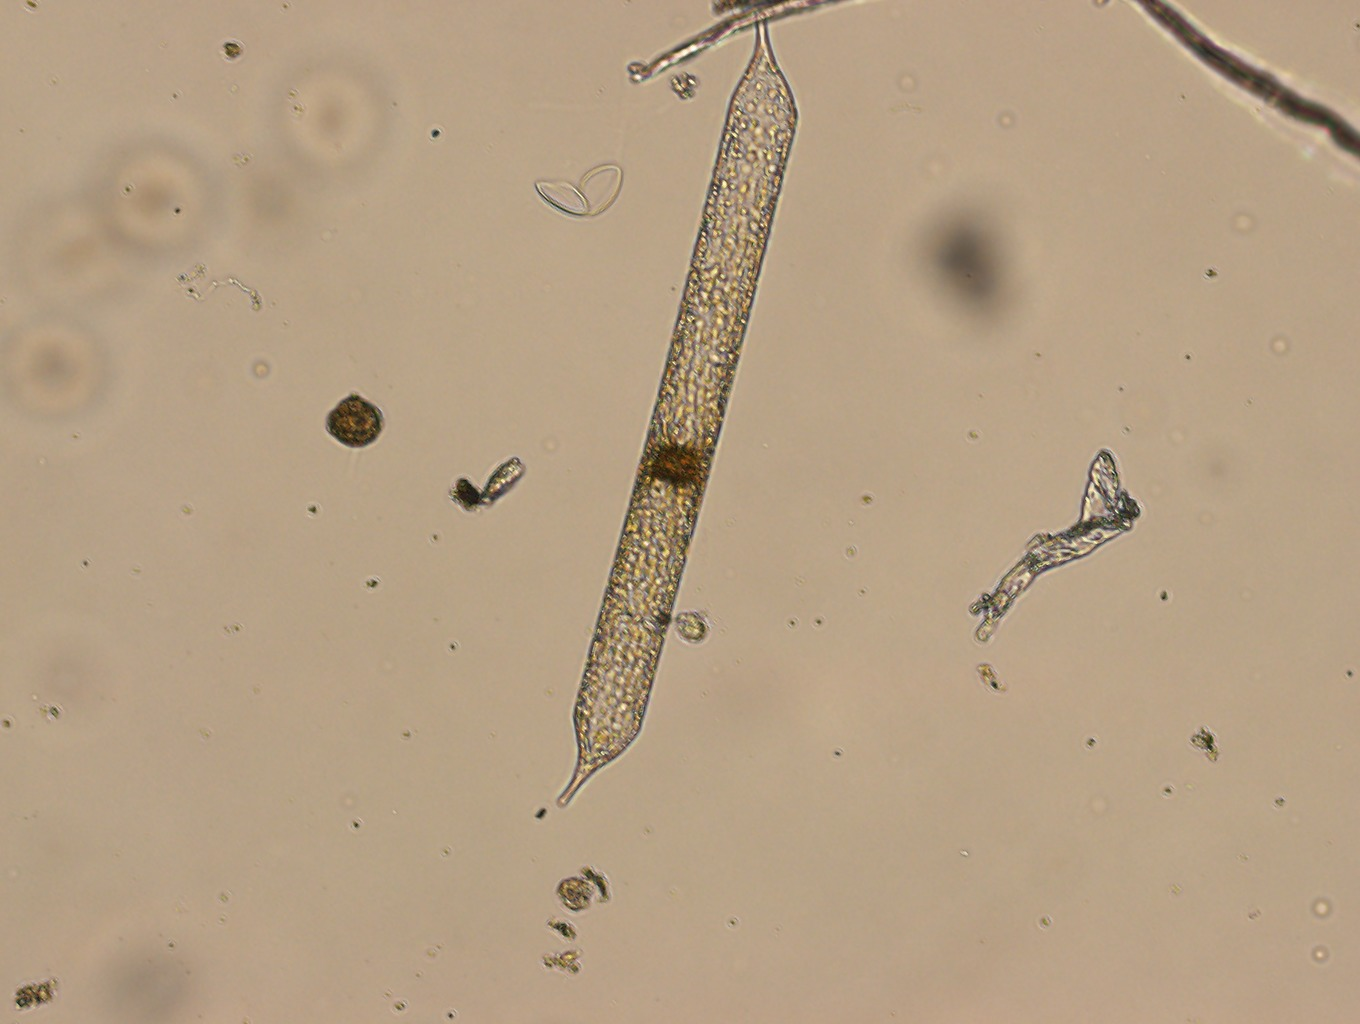rhizosolenia: (557, 11, 799, 803)
